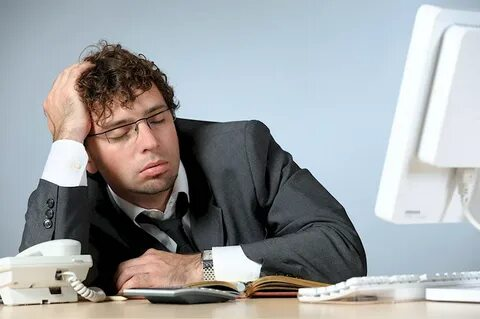sleep: (19, 41, 368, 297)
